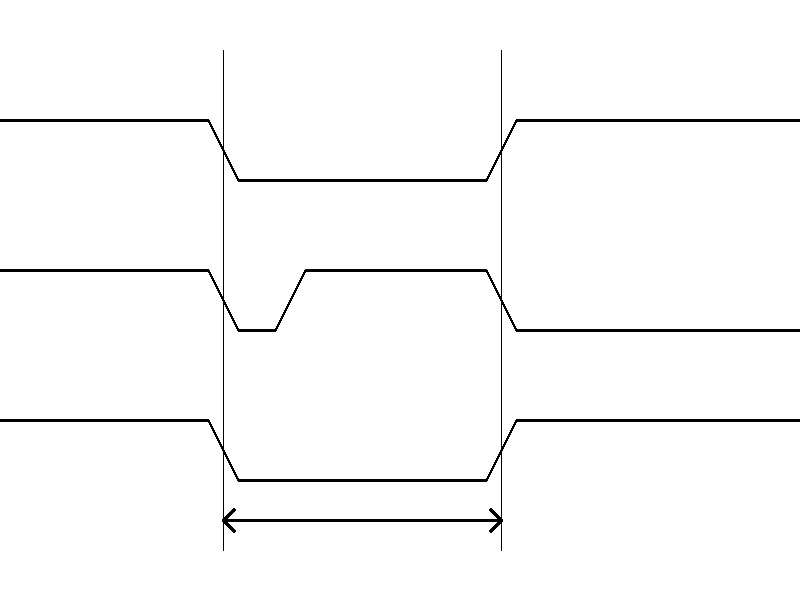double_arrow: (223, 505, 501, 535)
